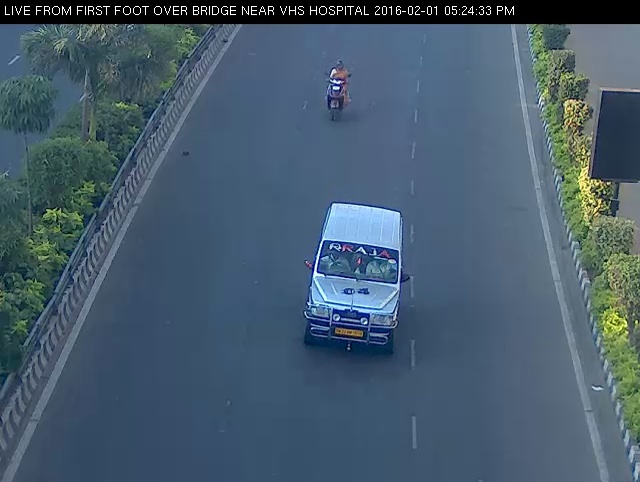Car: (284, 192, 424, 374)
Person: (317, 54, 357, 131)
